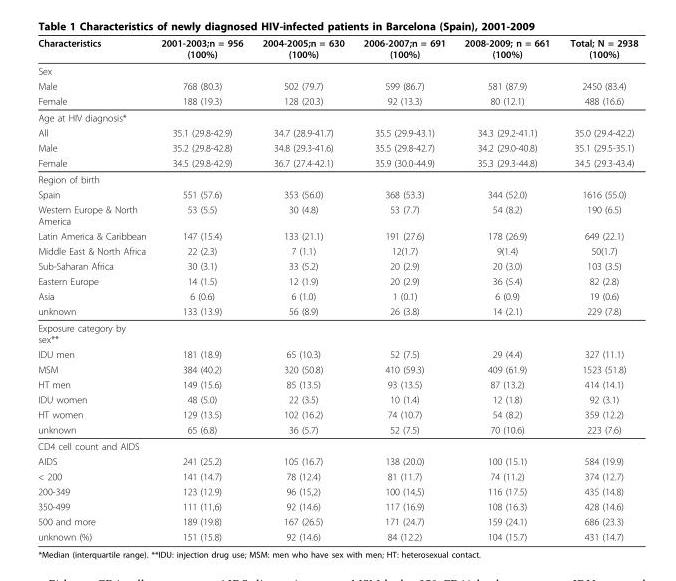table: (37, 36, 637, 541)
table column: (37, 36, 153, 541), (454, 36, 559, 541), (252, 36, 353, 541), (353, 36, 454, 541), (153, 36, 252, 541), (559, 36, 637, 541)
table column header: (37, 36, 637, 62)
table projected row header: (37, 319, 637, 346), (37, 62, 637, 78), (37, 170, 637, 186), (37, 437, 637, 453), (37, 109, 637, 124)
table row: (37, 201, 637, 228), (37, 319, 637, 346), (37, 36, 637, 62), (37, 62, 637, 78), (37, 93, 637, 109), (37, 139, 637, 155), (37, 170, 637, 186), (37, 303, 637, 319), (37, 421, 637, 437), (37, 437, 637, 453), (37, 78, 637, 93), (37, 109, 637, 124), (37, 124, 637, 139), (37, 155, 637, 170), (37, 186, 637, 201), (37, 228, 637, 243), (37, 243, 637, 258), (37, 258, 637, 273), (37, 273, 637, 288), (37, 288, 637, 303), (37, 346, 637, 361), (37, 361, 637, 376), (37, 376, 637, 391), (37, 391, 637, 406), (37, 406, 637, 421), (37, 453, 637, 468), (37, 468, 637, 483), (37, 483, 637, 498), (37, 498, 637, 513), (37, 513, 637, 528), (37, 528, 637, 541)
